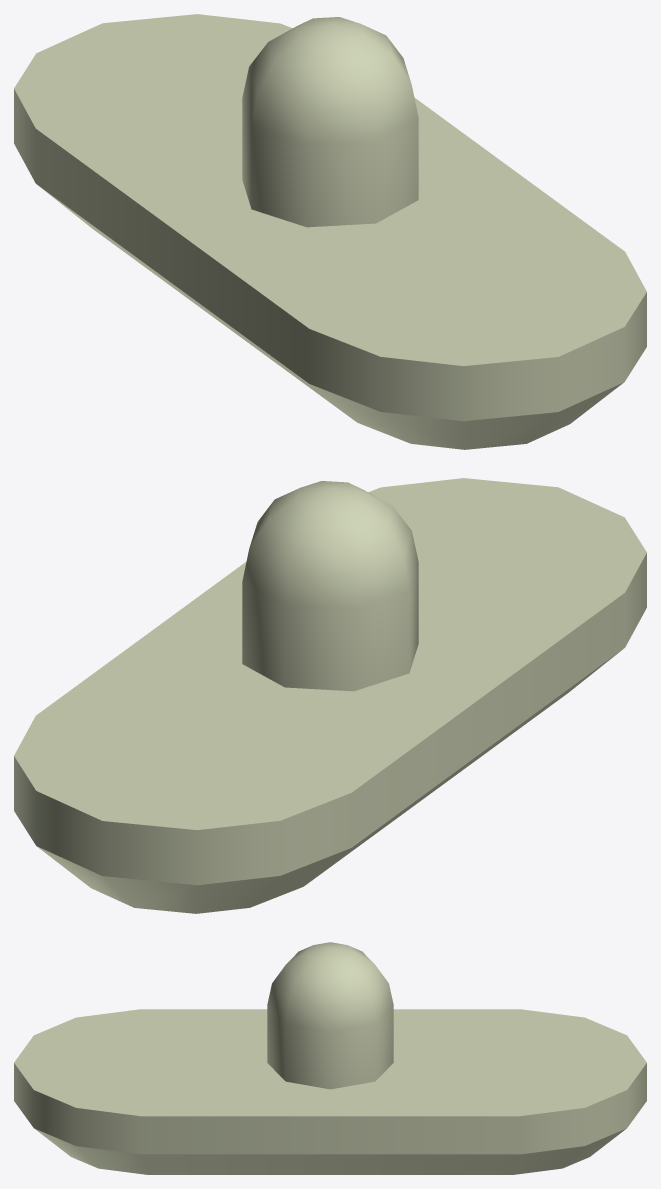
The model's file is blue_steel_landing_skid_srf_1_skid.obj.
3 views of the same model, one above another, from view 1: azimuth 30°, elevation 25°; view 2: azimuth 150°, elevation 25°; view 3: azimuth 270°, elevation 25° (orthographic). The views are drawn at different scales.
Visible parts, largest first — view 1: mesh1; view 2: mesh1; view 3: mesh1.
Boxes of the visible parts, box(x1,y1,x2,y2) form: mesh1: box(14, 14, 646, 449); mesh1: box(14, 478, 646, 913); mesh1: box(14, 942, 646, 1174).
Size of the model in its own units: 0.15 by 0.125 by 0.375.
